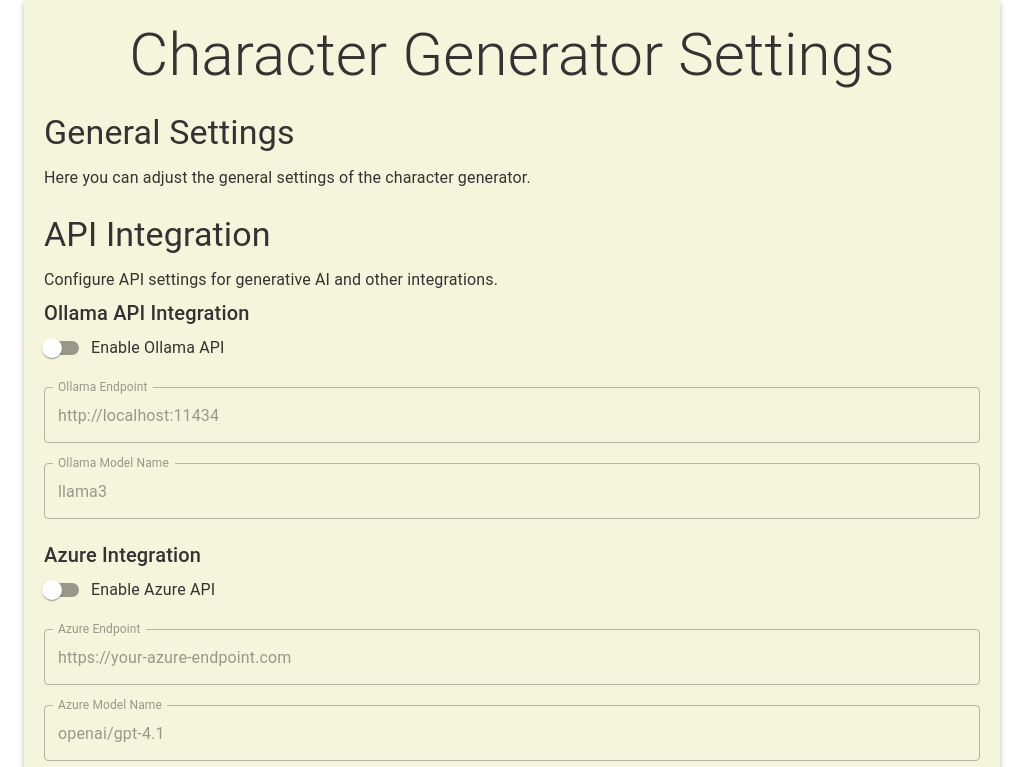
Settings › enables endpoint and model fields when Azure API is toggled on
Click the checkbox labelled "Enable Azure API".
click(129, 590)  # box [42,580,215,600]
(page scrolled)
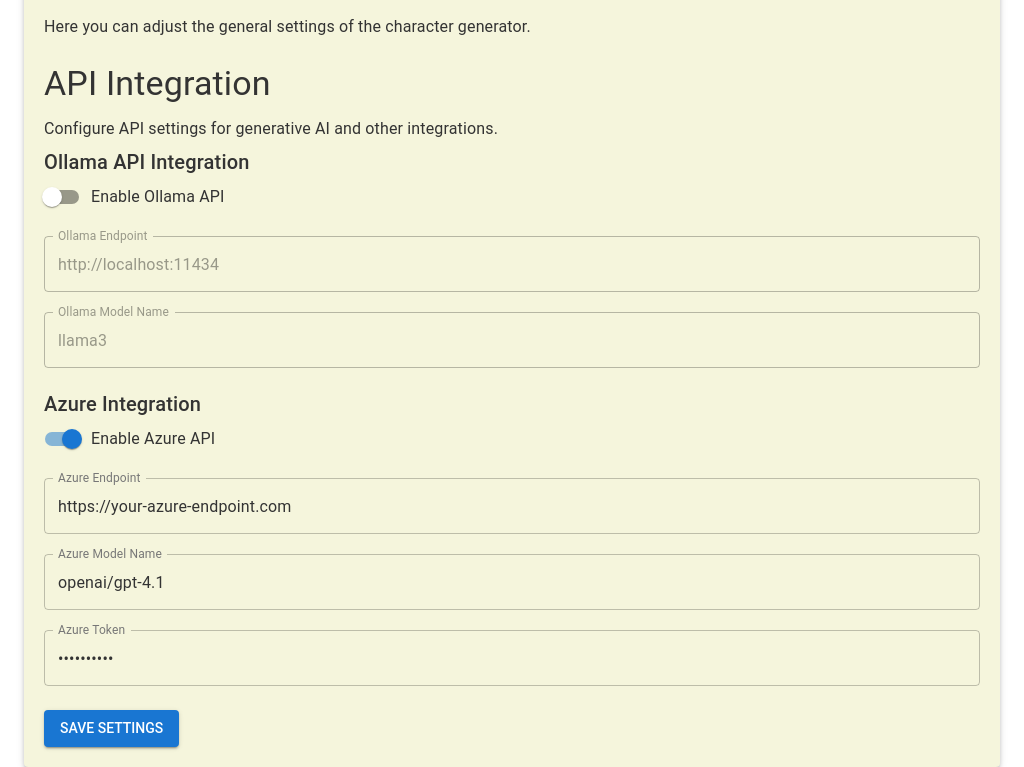
Result: the field labelled "Azure Endpoint" is enabled at [44,478,980,534]
Result: the field labelled "Azure Model Name" is enabled at [44,554,980,610]
Result: the password field labelled "Azure Token" is enabled at [44,630,980,686]
